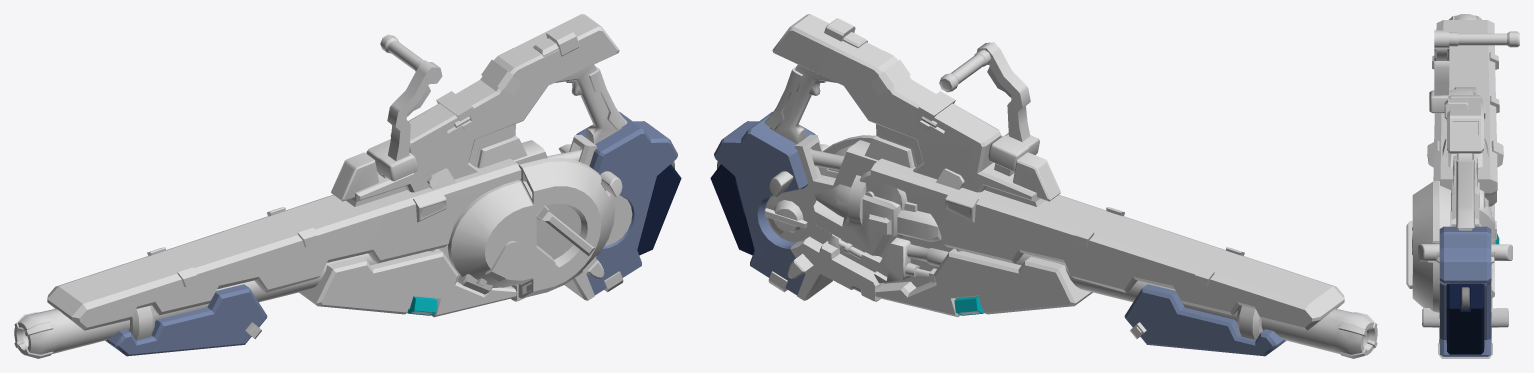
File: gun_alternate.fbx
3 renders of one model, left to right at view 1: azimuth 30°, elevation 25°; view 2: azimuth 150°, elevation 25°; view 3: azimuth 270°, elevation 25°, orthographic. The views are drawn at different scales.
Parts seen in each view (by area): view 1: barrel_cover_r_low.006, top_main_low.006, l_cover_low.006, stock_low.005, bottom_main_low.006, barrel_attachment_lower_low.006, barrel_main_low.006, handle_shaft_low.006, trigger_hold_low.006, top_light_front_low.006, interior_main_low.006, lower_main_led_mid_low.011 (+6 smaller); view 2: barrel_cover_r_low.006, top_main_low.006, stock_low.005, bottom_main_low.006, interior_body_extruded_large_low.006, barrel_attachment_lower_low.006, interior_main_low.006, barrel_main_low.006, handle_shaft_low.006, interior_body_extruded_low.006, trigger_hold_low.006, top_light_front_low.006 (+5 smaller); view 3: stock_low.005, barrel_cover_r_low.006, l_cover_low.006, top_main_low.006, handle_shaft_low.006, trigger_hold_low.006, handle_low.006, l_cover_hold_top_greeble_low.006, screen_2.006, l_cover_hold_bottom_low.006, interior_body_extruded_large_low.006, interior_main_low.006 (+8 smaller).
Part boxes in pixels (x1,y1,x2,y2): barrel_cover_r_low.006: (47,158,521,330); top_main_low.006: (346,14,619,206); l_cover_low.006: (447,158,615,298); stock_low.005: (511,111,681,301); bottom_main_low.006: (299,249,516,317); barrel_attachment_lower_low.006: (105,284,267,356); barrel_main_low.006: (14,253,403,358); handle_shaft_low.006: (366,61,442,181); trigger_hold_low.006: (555,64,627,144); top_light_front_low.006: (331,152,378,201); interior_main_low.006: (513,134,596,166); lower_main_led_mid_low.011: (332,163,580,314); barrel_cover_r_low.006: (870,158,1344,330); top_main_low.006: (772,14,1045,206); stock_low.005: (710,111,883,301); bottom_main_low.006: (875,249,1092,317); interior_body_extruded_large_low.006: (813,170,941,255); barrel_attachment_lower_low.006: (1124,284,1286,356); interior_main_low.006: (766,134,953,287); barrel_main_low.006: (988,253,1377,358); handle_shaft_low.006: (976,42,1039,176); interior_body_extruded_low.006: (828,234,948,283); trigger_hold_low.006: (764,64,836,144); top_light_front_low.006: (1013,152,1060,201); stock_low.005: (1439,226,1492,356); barrel_cover_r_low.006: (1433,20,1497,207); l_cover_low.006: (1412,180,1450,312); top_main_low.006: (1444,95,1485,187); handle_shaft_low.006: (1429,30,1473,113); trigger_hold_low.006: (1456,153,1474,230); handle_low.006: (1449,31,1519,47); l_cover_hold_top_greeble_low.006: (1418,243,1512,263); screen_2.006: (1453,121,1477,148); l_cover_hold_bottom_low.006: (1422,308,1508,327); interior_body_extruded_large_low.006: (1479,189,1496,244); interior_main_low.006: (1451,182,1479,226).
Bounding box in the file's own units: 1064 × 431 × 176.
